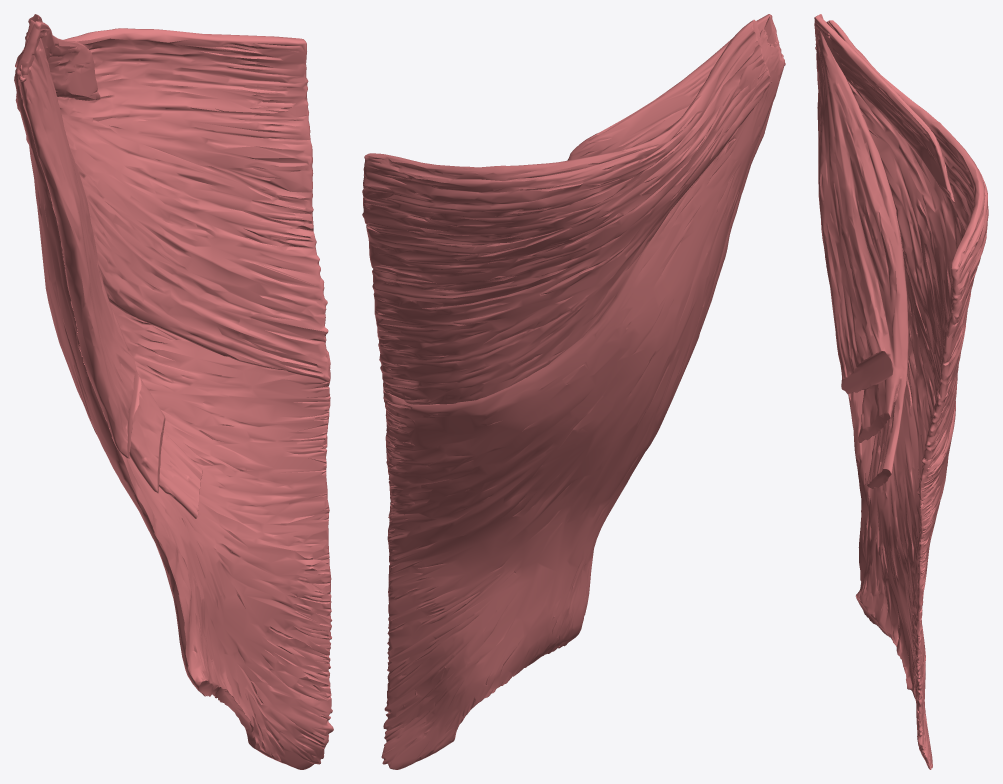
Rendered from BP3D3_FMA13358.glb.
3 renders of one model, left to right at view 1: azimuth 30°, elevation 25°; view 2: azimuth 150°, elevation 25°; view 3: azimuth 270°, elevation 25°, orthographic. The views are drawn at different scales.
Visible parts, largest first — view 1: BP3D3_FMA13358; view 2: BP3D3_FMA13358; view 3: BP3D3_FMA13358.
Part boxes in pixels (x1,y1,x2,y2): BP3D3_FMA13358: (14,14,333,769); BP3D3_FMA13358: (362,14,785,769); BP3D3_FMA13358: (814,14,988,769).
Bounding box in the file's own units: 0.1799 × 0.3952 × 0.0989.
